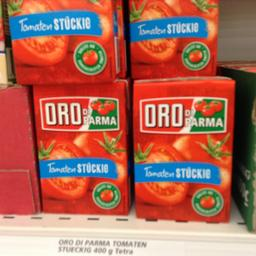tomato_sauce: (130, 76, 234, 226), (31, 81, 128, 215), (4, 0, 114, 83), (127, 0, 217, 77)
